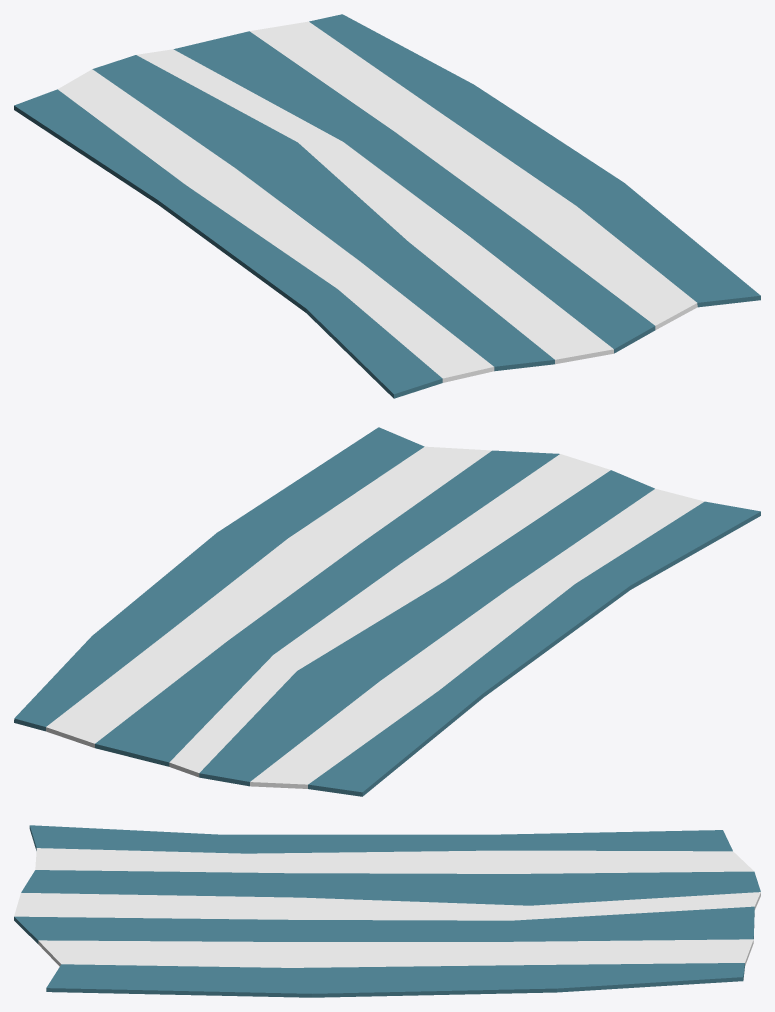
Rendered from Towel_01.fbx.
The picture shows the model from 3 angles, top to bottom: view 1: azimuth 30°, elevation 25°; view 2: azimuth 150°, elevation 25°; view 3: azimuth 270°, elevation 25°; orthographic projection. The views are drawn at different scales.
Parts seen in each view (by area): view 1: Towel_01; view 2: Towel_01; view 3: Towel_01.
Part boxes in pixels (x1,y1,x2,y2): Towel_01: (14, 14, 760, 398); Towel_01: (14, 427, 760, 796); Towel_01: (14, 825, 760, 997).
Bounding box in the file's own units: 112 × 1.22 × 209.
